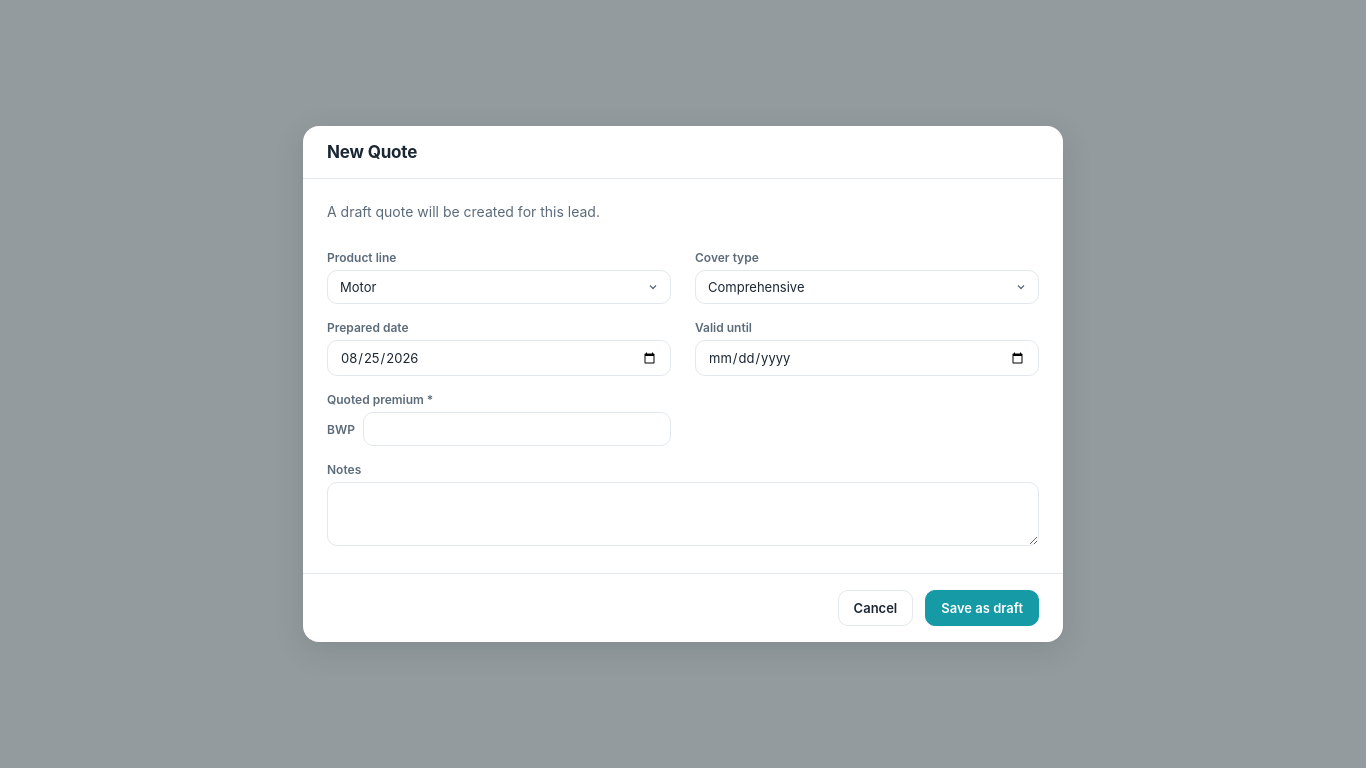
Test case: NewQuoteModal › click_WhenPreparedDateBeforeLeadReceived_ShouldShowInlineErrorAndNotConfirm
Step 1. Type "750000" into the field labelled "Quoted premium *" → point(517, 429), box [363,412,671,446]
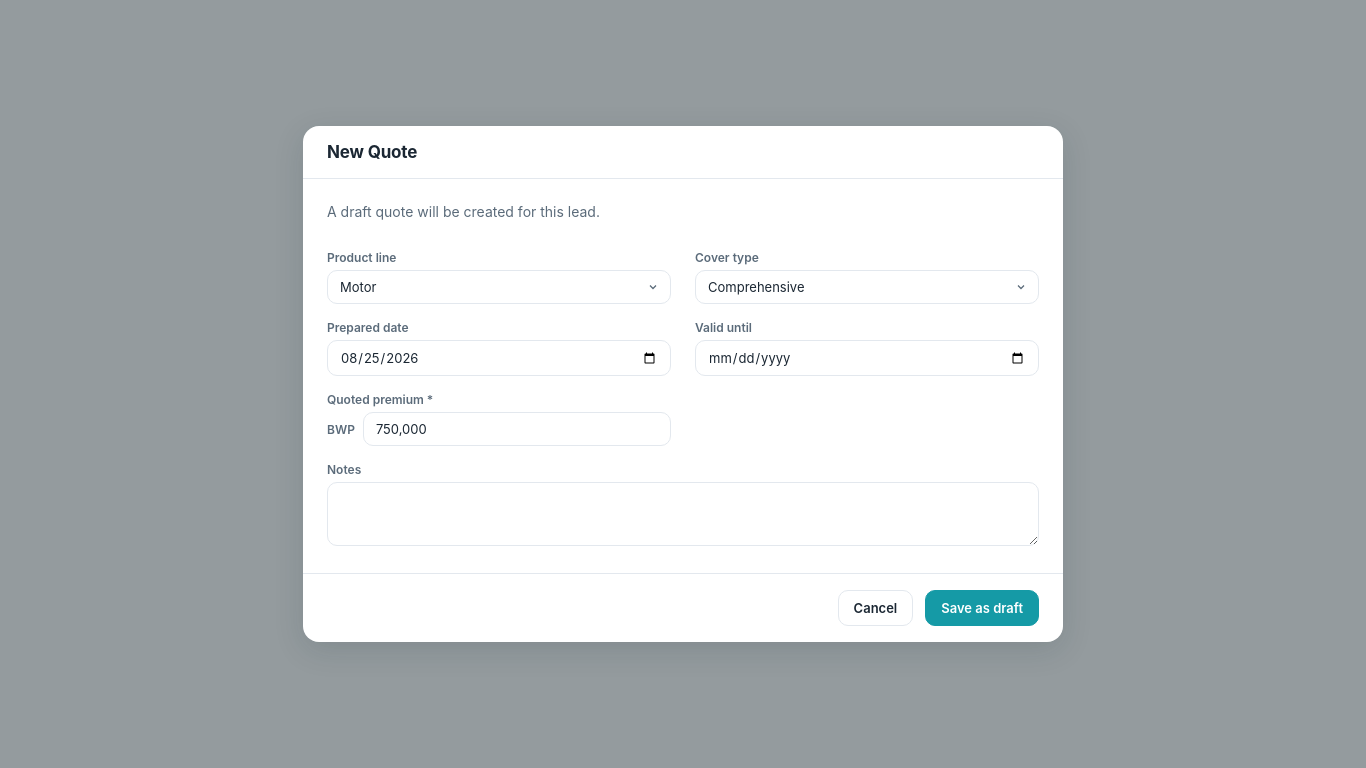
Step 2. Type "2026-01-01" into the date field labelled "Prepared date" → point(499, 358), box [327,340,671,376]
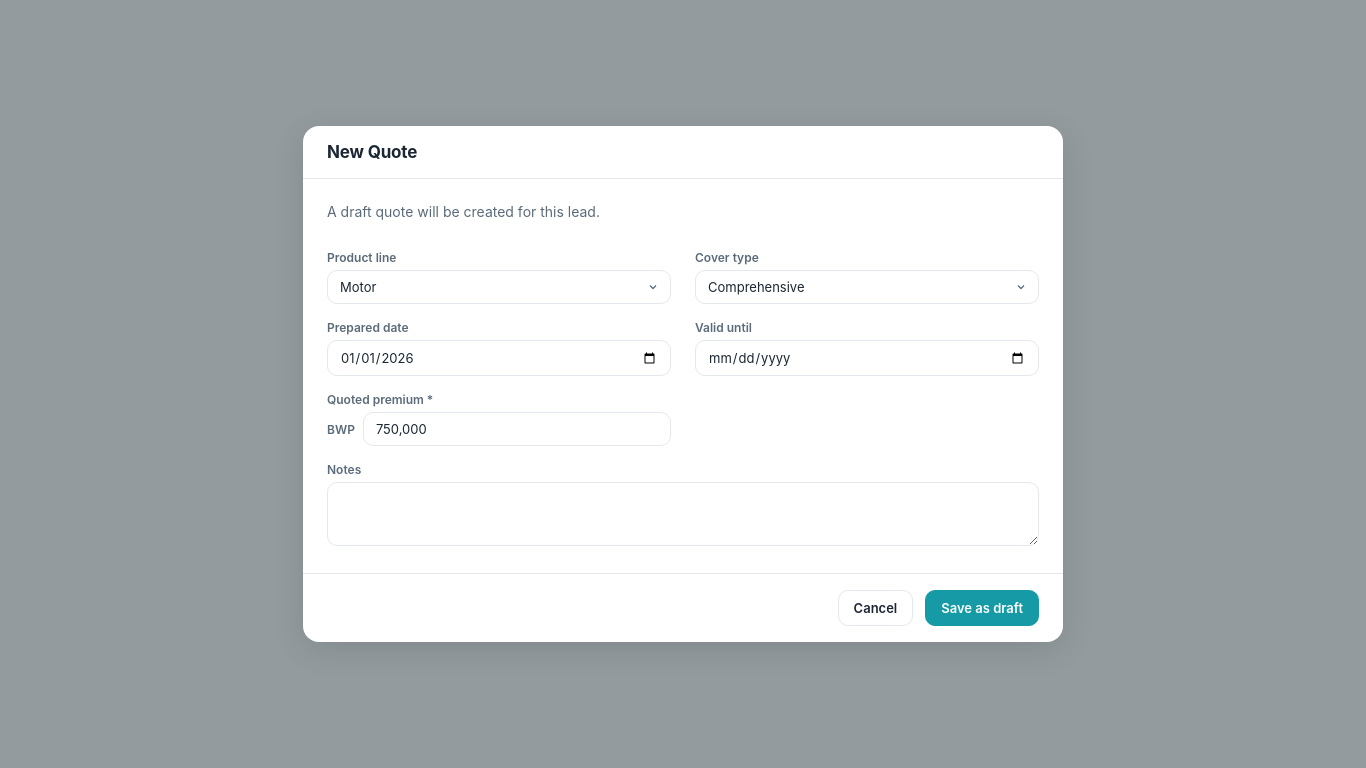
Step 3. Click the button with test id "dialog-primary-button" → point(982, 608), box [925,590,1039,626]
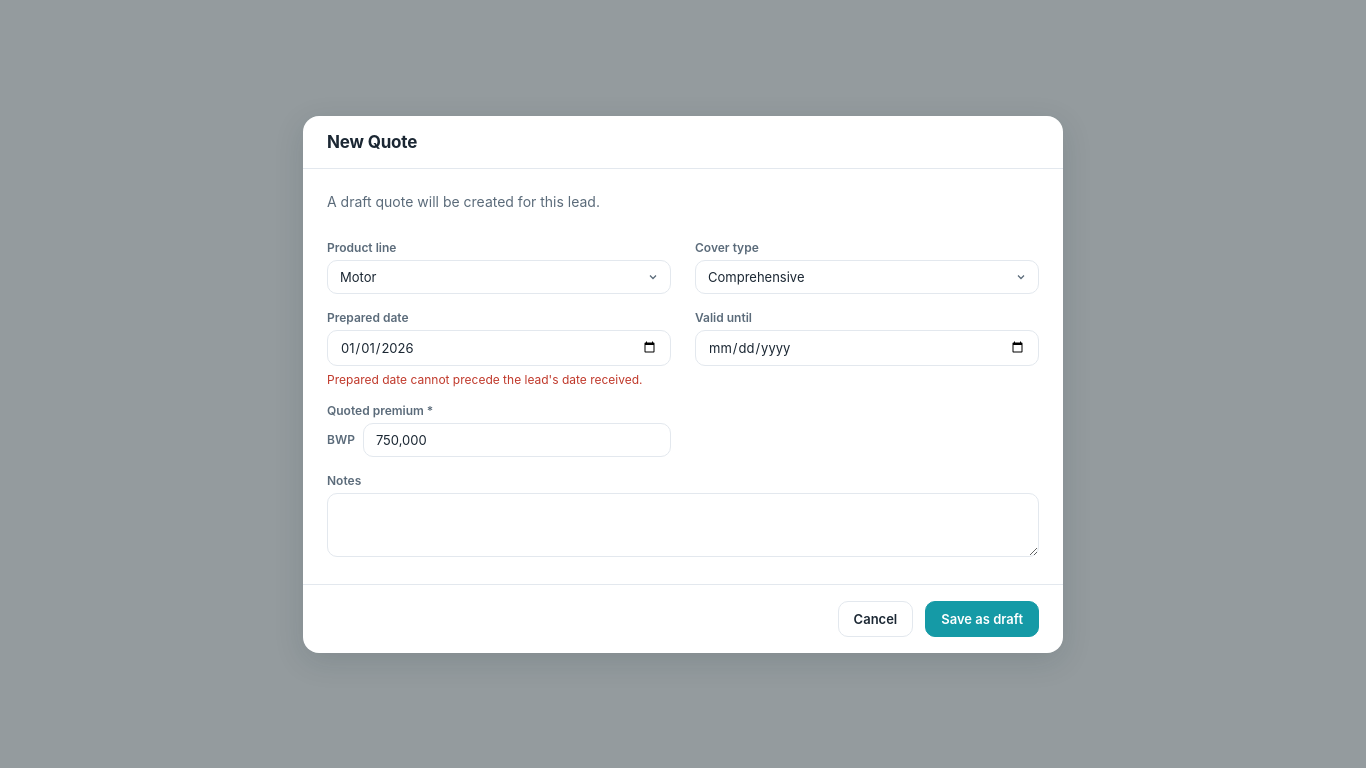
expect the message with test id "field-error-prepared-date" reads "Prepared date cannot precede the lead's date received.": met, box [327,372,643,386]
